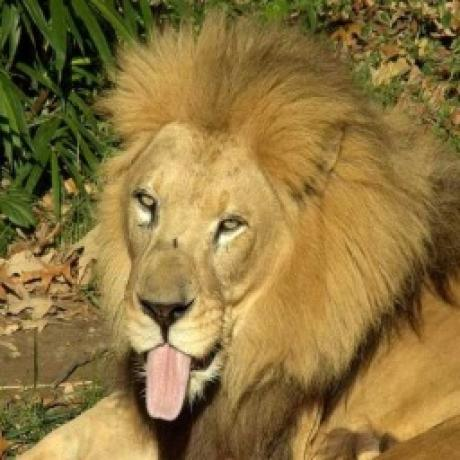Lion: (0, 15, 460, 460)
